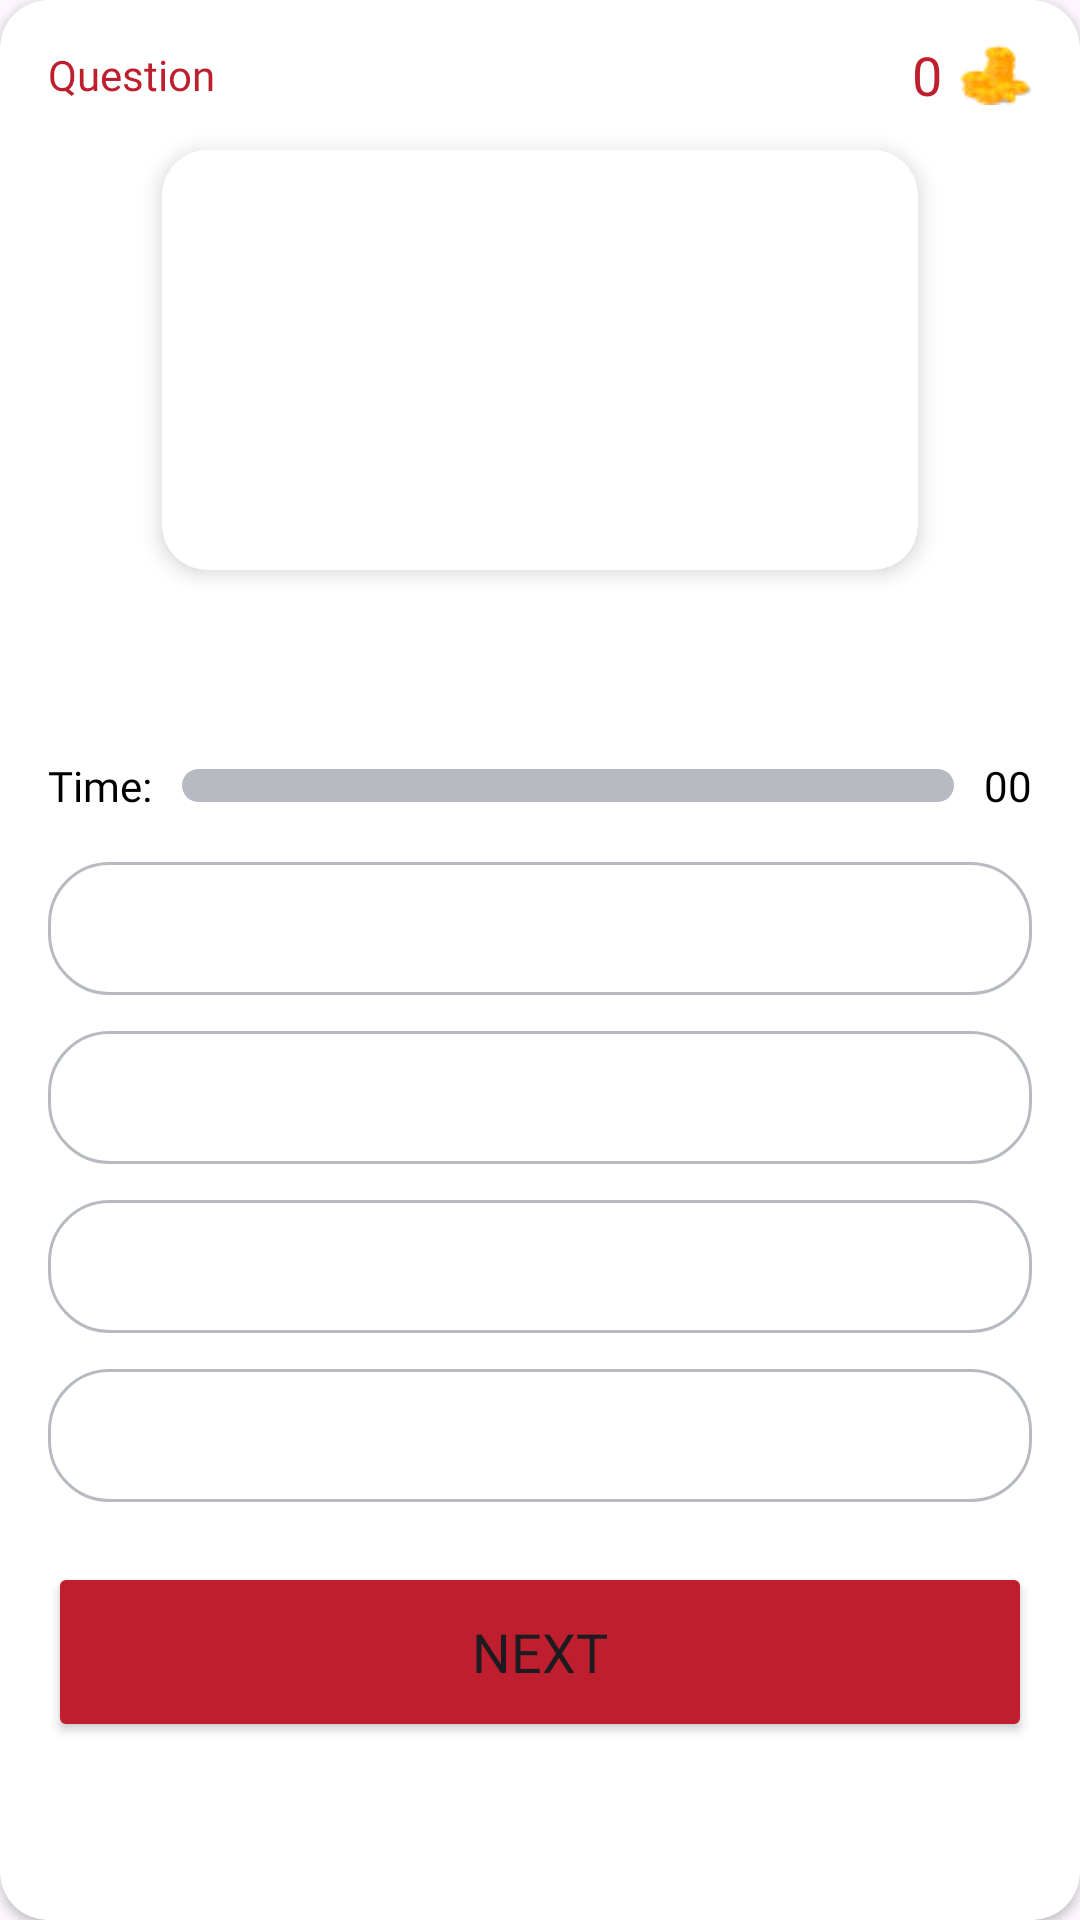

Screen size 1080×1920. Icon name, then its center in pixels as (x,y):
rupi: (995,75)
